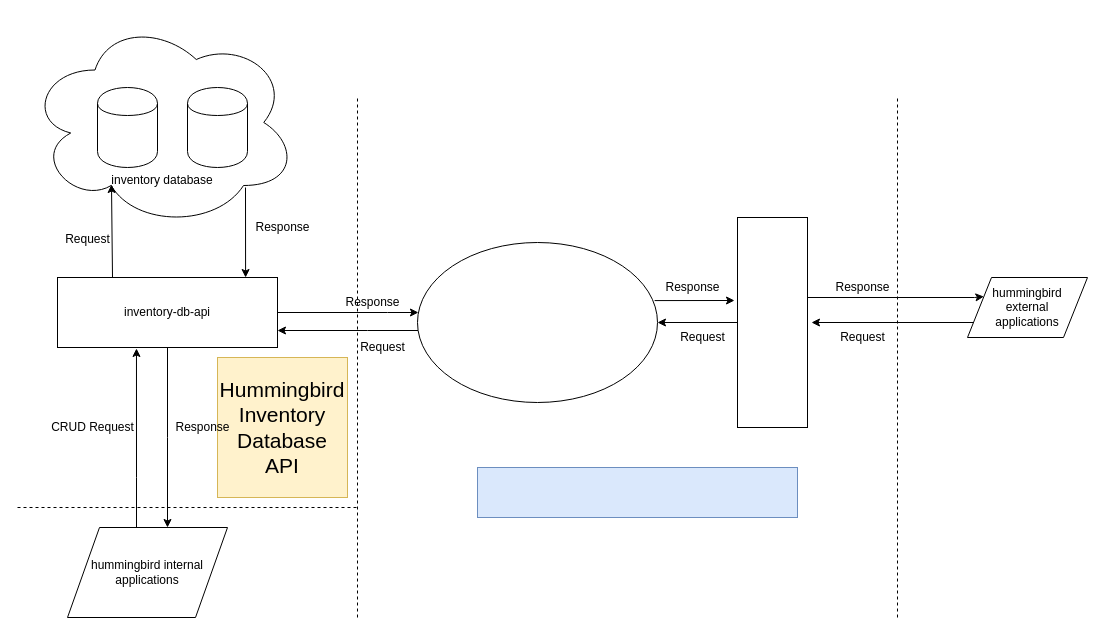
This 1105x636 diagram has some shape labels left out. The shapes that lost their labels are listed below. From the top down, each one's centre as x and y in pixels, then its label:
the point at 537,322: hummingbird inventory business logic
the point at 772,322: inventory-search-api
the point at 637,492: Hummingbird Inventory Search API
